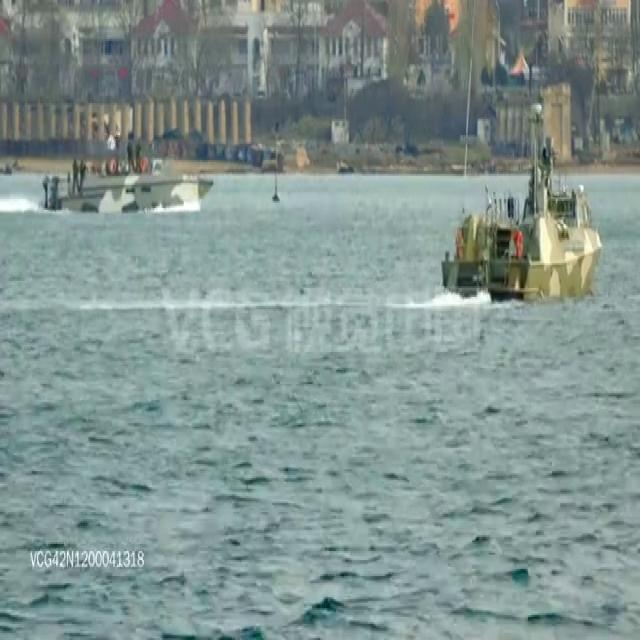houseboat: (439, 102, 601, 308), (41, 120, 213, 220)
